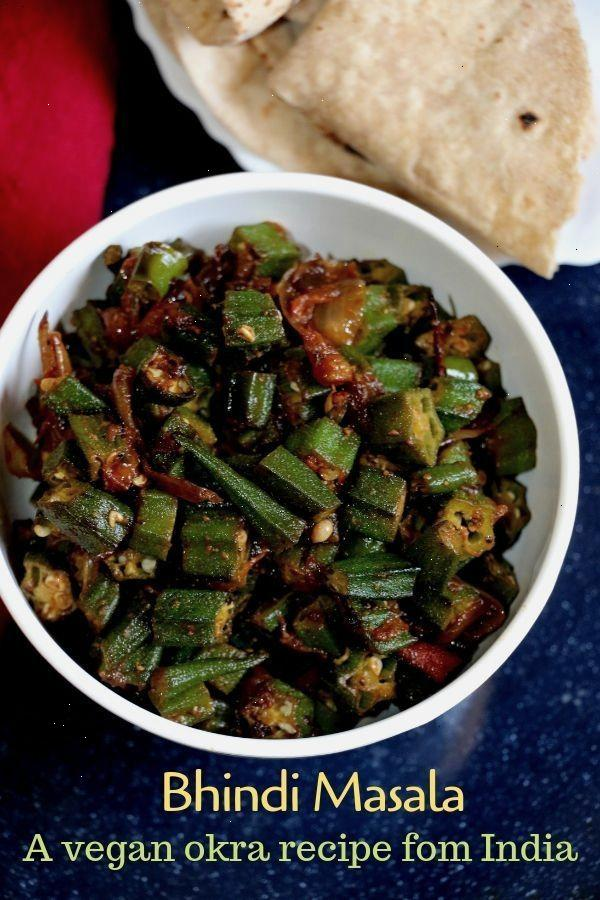bhindi: (36, 306, 497, 657)
